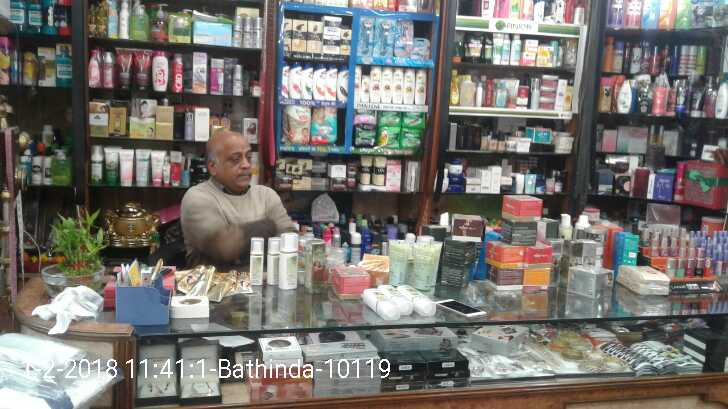venus: (376, 20, 396, 55), (360, 18, 376, 55), (396, 20, 412, 56), (412, 37, 431, 56)
